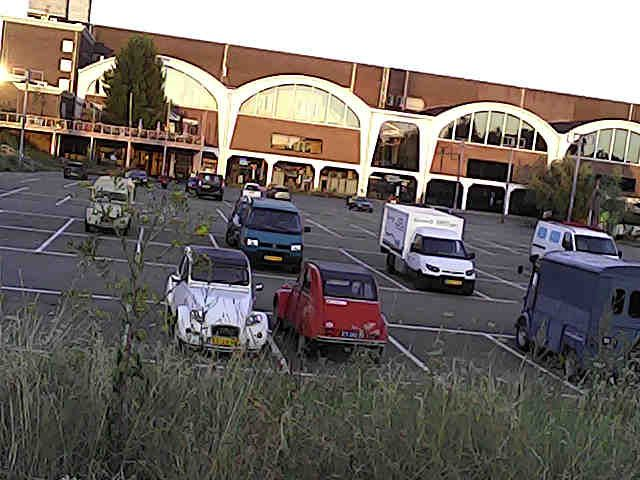suv: (515, 251, 639, 379), (165, 246, 268, 351), (272, 261, 387, 354), (225, 197, 309, 271), (85, 176, 134, 234), (195, 173, 224, 200), (63, 160, 87, 179), (240, 182, 265, 197), (347, 197, 372, 212), (266, 185, 290, 200), (124, 169, 147, 184), (185, 173, 197, 194), (158, 175, 171, 188)
whitevan: (379, 203, 475, 294), (530, 220, 621, 257), (346, 196, 373, 213)
